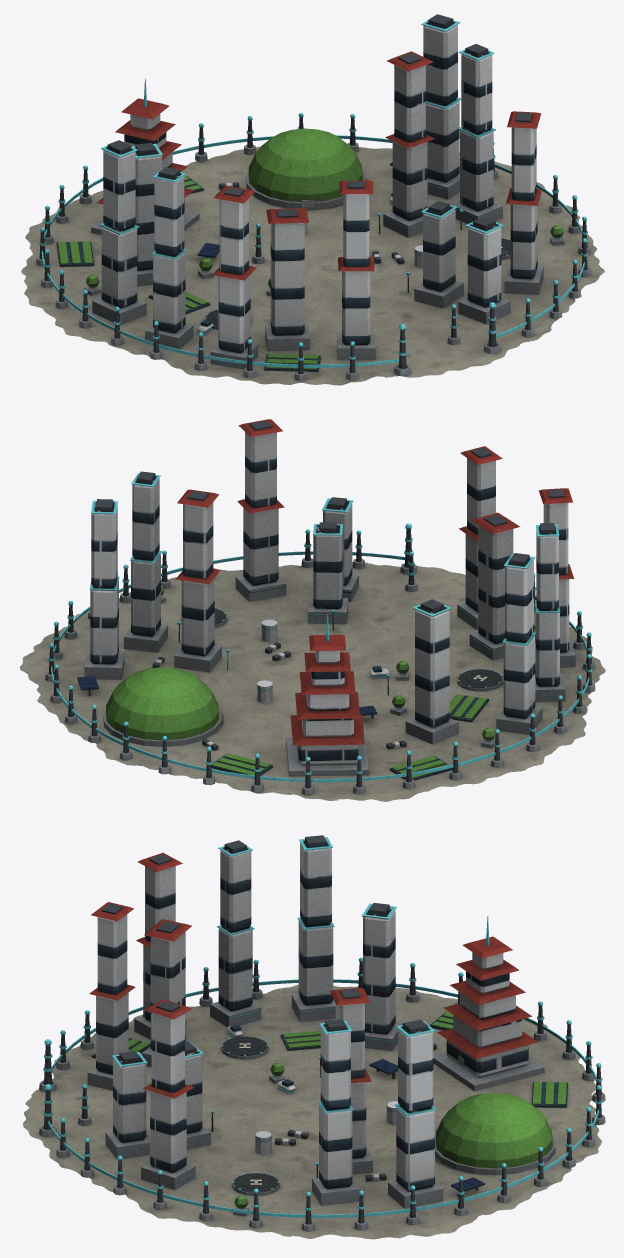
The model's file is future-town-medium-b-sinic.glb.
The picture shows the model from 3 angles, top to bottom: view 1: azimuth 30°, elevation 25°; view 2: azimuth 150°, elevation 25°; view 3: azimuth 270°, elevation 25°; orthographic projection. The views are drawn at different scales.
Visible parts, largest first — view 1: LOD0; view 2: LOD0; view 3: LOD0.
Boxes of the visible parts, box(x1,y1,x2,y2) form: LOD0: box(21, 14, 604, 385); LOD0: box(20, 419, 605, 801); LOD0: box(23, 835, 605, 1239).
Size of what is drawn, in the model's own units: 5.98 by 1.88 by 5.78.
Materials: 3 (3 with a texture image).
